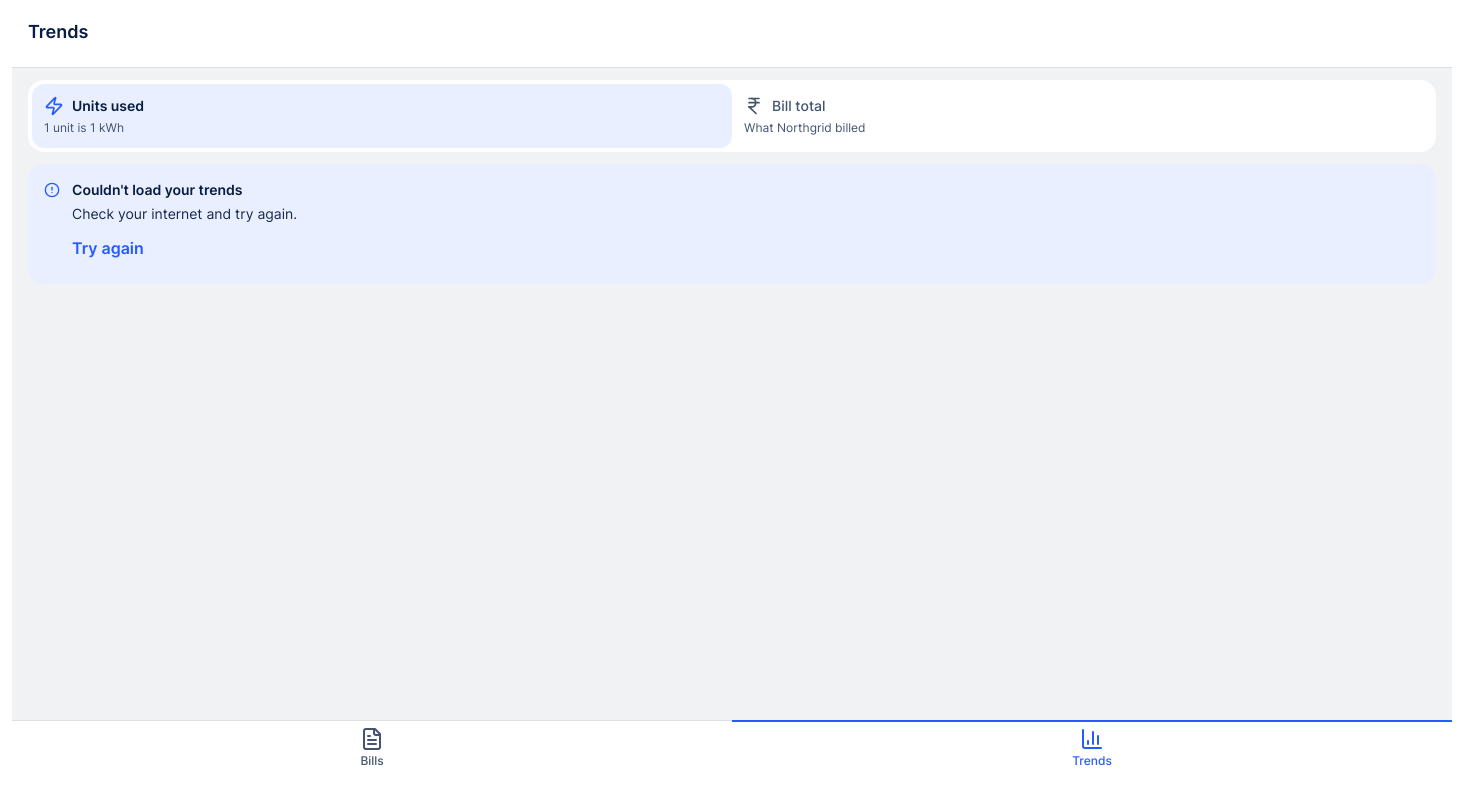
Test case: Trends (S12 to S12.6) › shows the error and tries again (?state=error)
Expected: the message shows "Couldn't load your trends", left=72, top=181, right=242, bottom=198
Expected: the message shows "Check your internet and try again.", left=72, top=205, right=297, bottom=222
Step 1. Click the button "Try again" → (108, 248), box left=68, top=228, right=148, bottom=268
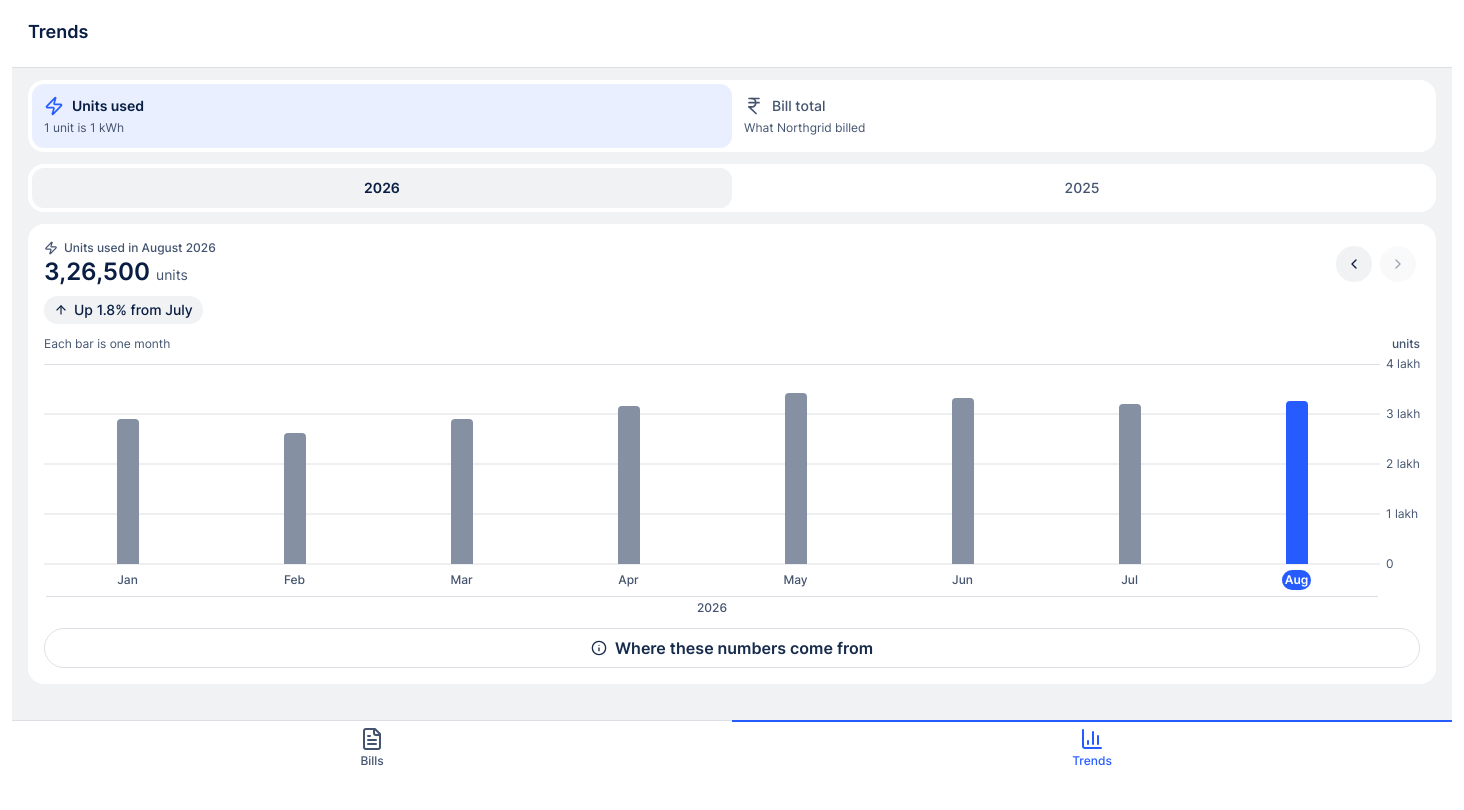
Expected: the text "Each bar is one month" is shown, left=44, top=336, right=170, bottom=351
